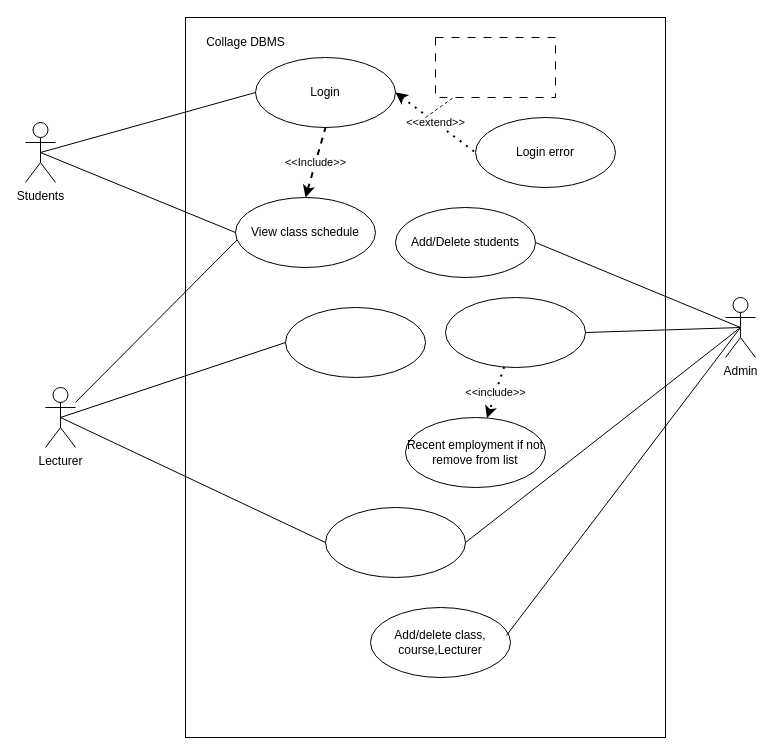
Some shapes in this 775 by 755 pixel diagram are drawn without their labels. Each missing label, with the centre of its shape:
"Update the course details" belongs at point 355,342.
"View course list" belongs at point 395,542.
"View Record" belongs at point 515,332.
"Wrong credentials" belongs at point 495,67.
